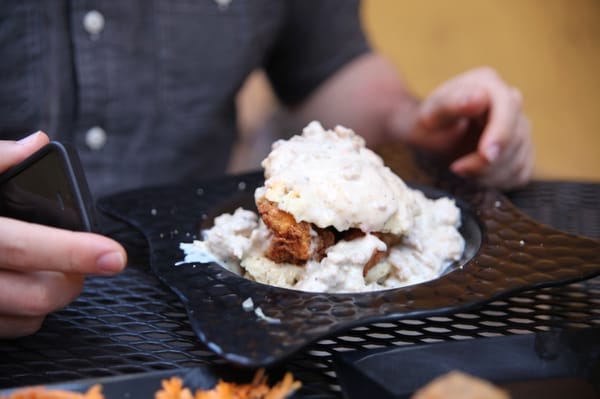sushi: (233, 120, 465, 294)
